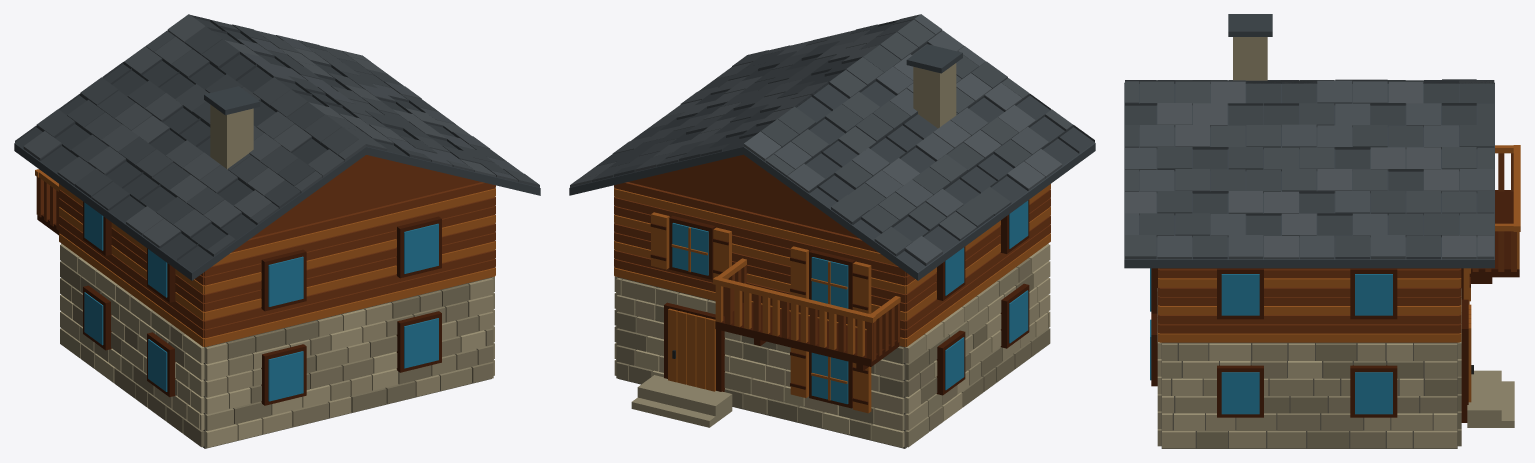
File: Baita_Alpina_Compatta.obj
The picture shows the model from 3 angles, left to right: view 1: azimuth 30°, elevation 25°; view 2: azimuth 150°, elevation 25°; view 3: azimuth 270°, elevation 25°; orthographic projection. The views are drawn at different scales.
Parts seen in each view (by area): view 1: StoneRoofSlabs, Stonework, HorizontalBoards, RearGlass, Gables, StoneRoofBase, RearFrame, SideGlass, SideWindowFrame, Chimney, ChimneyCap, GroundFloor (+2 smaller); view 2: StoneRoofSlabs, Stonework, HorizontalBoards, Gables, Balusters, Shutters, StoneRoofBase, WindowGlass, DoorBoards, Steps, SideGlass, ShortBalconyDeck (+12 smaller); view 3: StoneRoofSlabs, Stonework, HorizontalBoards, SideGlass, StoneRoofBase, SideWindowFrame, Steps, GroundFloor, Chimney, ShortBalconyDeck, ChimneyCap, SideBaluster (+3 smaller).
Part boxes in pixels (x1=…): StoneRoofSlabs: x1=15, y1=14, x2=539, y2=272; Stonework: x1=60, y1=243, x2=494, y2=447; HorizontalBoards: x1=59, y1=182, x2=495, y2=346; RearGlass: x1=268, y1=223, x2=438, y2=401; Gables: x1=256, y1=155, x2=476, y2=234; StoneRoofBase: x1=14, y1=143, x2=540, y2=280; RearFrame: x1=261, y1=216, x2=441, y2=405; SideGlass: x1=84, y1=202, x2=167, y2=391; SideWindowFrame: x1=83, y1=201, x2=175, y2=397; Chimney: x1=210, y1=104, x2=253, y2=169; ChimneyCap: x1=204, y1=86, x2=260, y2=115; GroundFloor: x1=202, y1=277, x2=491, y2=448; StoneRoofSlabs: x1=570, y1=14, x2=1094, y2=271; Stonework: x1=614, y1=243, x2=1050, y2=447; HorizontalBoards: x1=614, y1=182, x2=1050, y2=346; Gables: x1=633, y1=154, x2=853, y2=234; Balusters: x1=715, y1=285, x2=872, y2=361; Shutters: x1=651, y1=212, x2=871, y2=413; StoneRoofBase: x1=569, y1=143, x2=1095, y2=280; WindowGlass: x1=672, y1=223, x2=848, y2=404; DoorBoards: x1=668, y1=308, x2=715, y2=391; Steps: x1=631, y1=375, x2=732, y2=427; SideGlass: x1=945, y1=200, x2=1028, y2=390; ShortBalconyDeck: x1=715, y1=302, x2=899, y2=366; StoneRoofSlabs: x1=1125, y1=79, x2=1494, y2=259; Stonework: x1=1157, y1=288, x2=1461, y2=448; HorizontalBoards: x1=1158, y1=268, x2=1461, y2=342; SideGlass: x1=1221, y1=274, x2=1392, y2=414; StoneRoofBase: x1=1124, y1=82, x2=1494, y2=268; SideWindowFrame: x1=1217, y1=268, x2=1397, y2=417; Steps: x1=1467, y1=370, x2=1514, y2=427; GroundFloor: x1=1161, y1=342, x2=1457, y2=448; Chimney: x1=1233, y1=37, x2=1267, y2=80; ShortBalconyDeck: x1=1469, y1=190, x2=1519, y2=277; ChimneyCap: x1=1228, y1=14, x2=1272, y2=36; SideBaluster: x1=1472, y1=153, x2=1516, y2=271.
Size of the model in its own units: 8.5 by 7.05 by 8.02.
